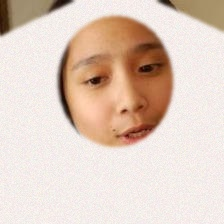Mukena: (3, 1, 224, 224)
